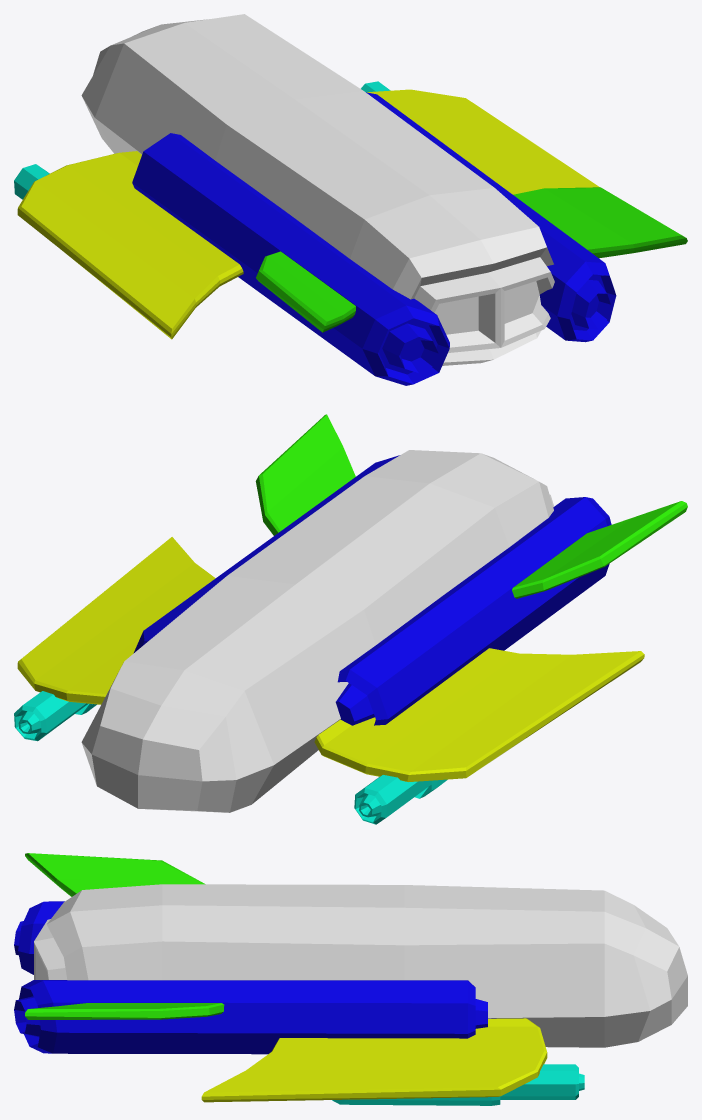
The model's file is Player Ship Type 1.fbx.
The picture shows the model from 3 angles, top to bottom: view 1: azimuth 30°, elevation 25°; view 2: azimuth 150°, elevation 25°; view 3: azimuth 270°, elevation 25°; orthographic projection. The views are drawn at different scales.
Visible parts, largest first — view 1: Cube; view 2: Cube; view 3: Cube.
Part boxes in pixels (bbox=[...]): Cube: bbox=[14, 14, 687, 385]; Cube: bbox=[14, 414, 687, 824]; Cube: bbox=[14, 853, 687, 1105].
Size of the model in its own units: 369 by 102 by 505.
